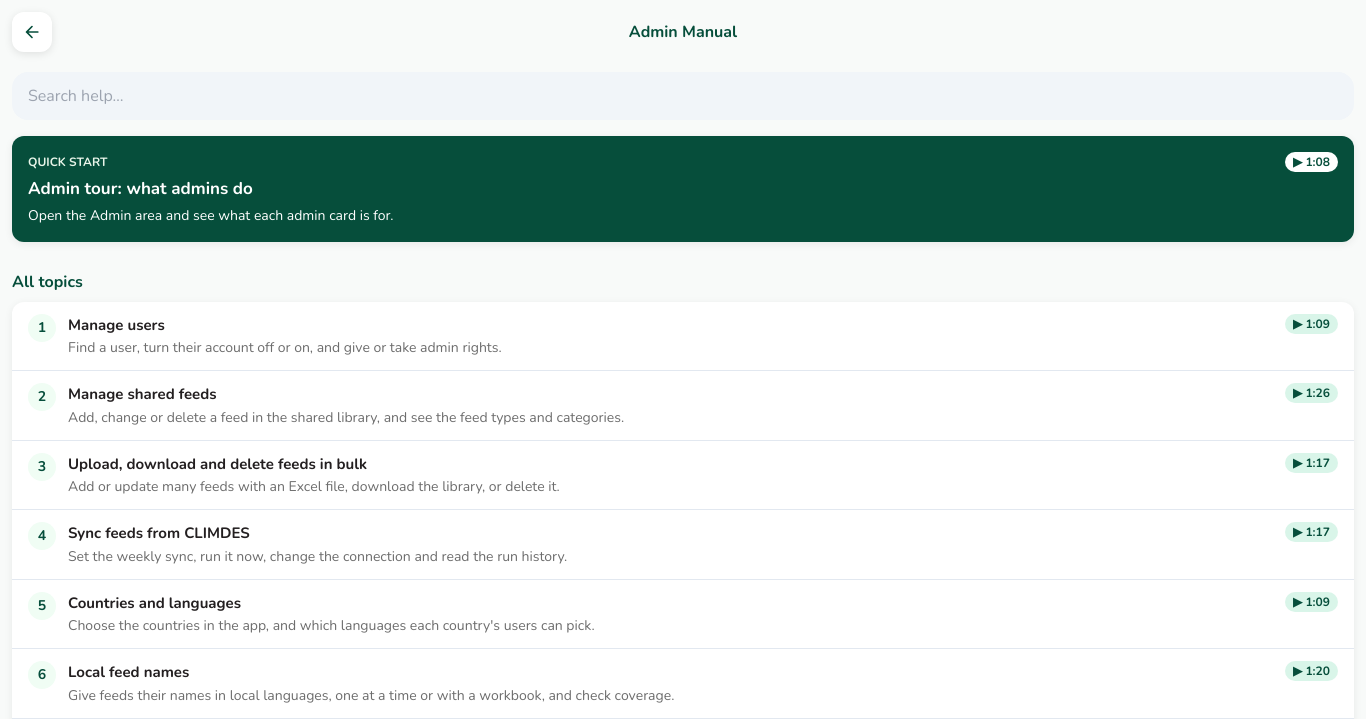
Scenario: Admin Manual list › search matches title and summary and hides the hero
The width and height of the screenshot is (1366, 719).
Expected: the text "Admin tour: what admins do" is shown, [28, 177, 253, 200]
Type "climdes" into the search field labelled "Search help…". click: (683, 96)
box: [12, 72, 1354, 120]
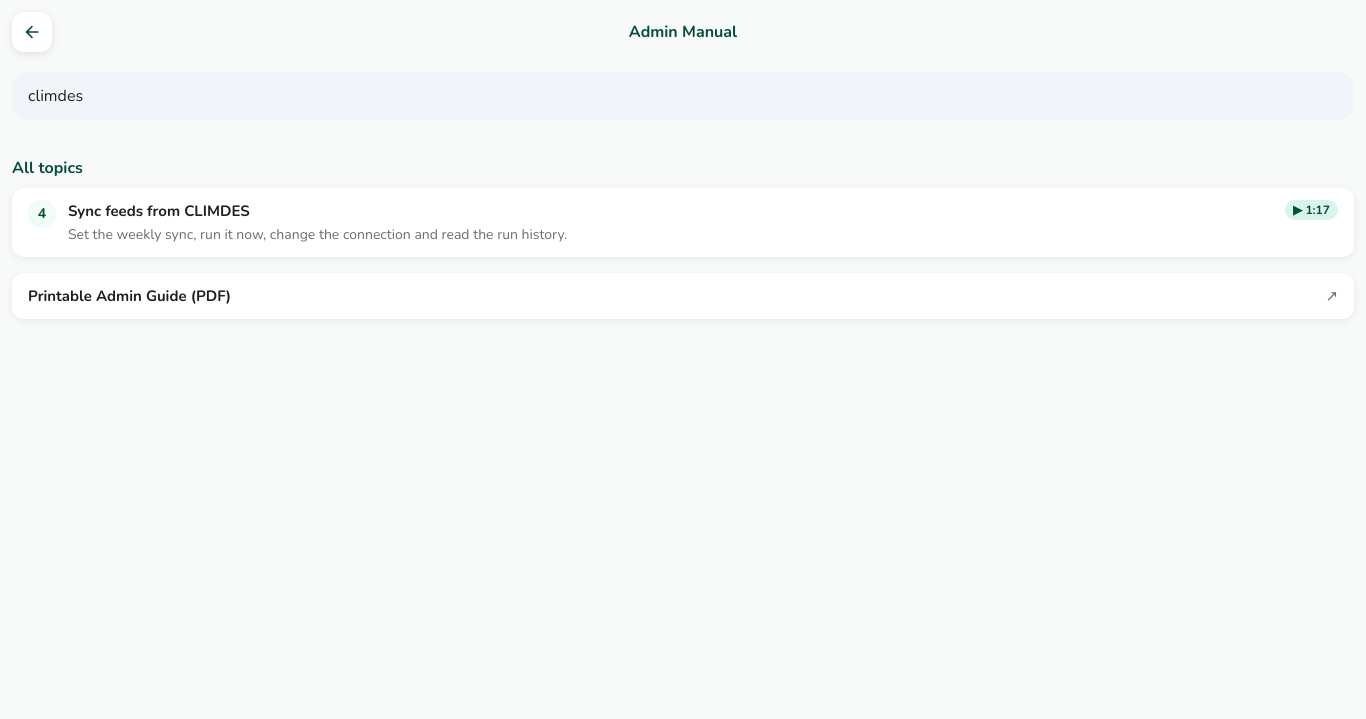
Expected: the text "Sync feeds from CLIMDES" is shown, [68, 201, 250, 221]
Now the button "Manage users" is gone
// A summary-only match ("Excel file" is in the bulk topic's summary).
Replace the text in the search field named "Search help…" with "excel file". click: (683, 96)
box: [12, 72, 1354, 120]
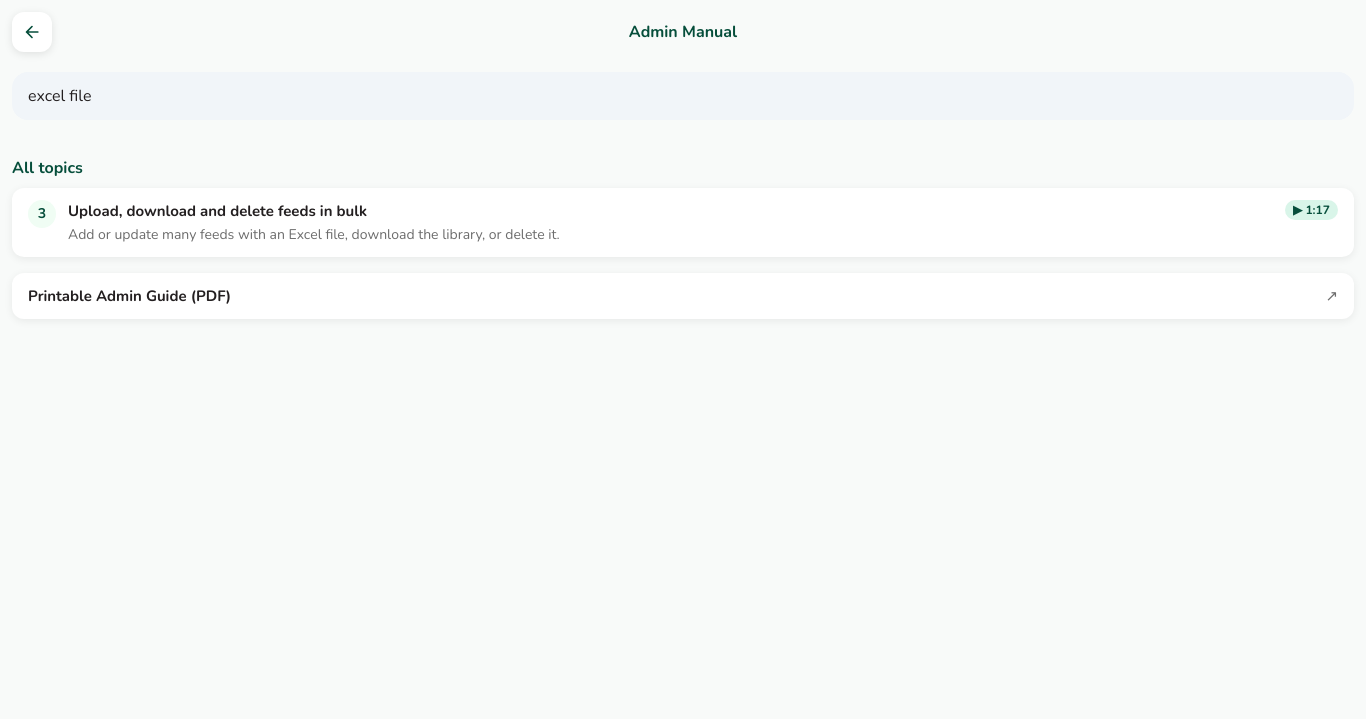
Expected: the button "Quick start" is not shown
Now the text "Upload, download and delete feeds in bulk" is shown, box [68, 201, 367, 221]
